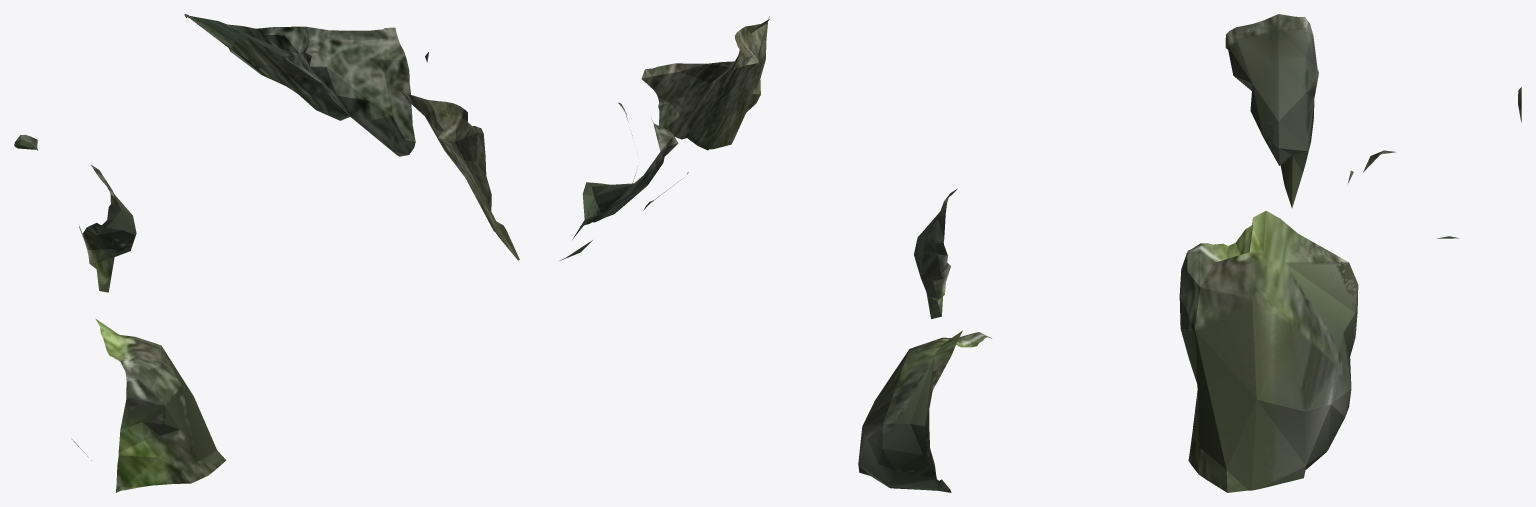
The picture shows the model from 3 angles, left to right: view 1: azimuth 30°, elevation 25°; view 2: azimuth 150°, elevation 25°; view 3: azimuth 270°, elevation 25°; orthographic projection. The views are drawn at different scales.
Size of the model in its own units: 5.9 by 5.9 by 5.9.
Materials: 2 (2 with a texture image).
